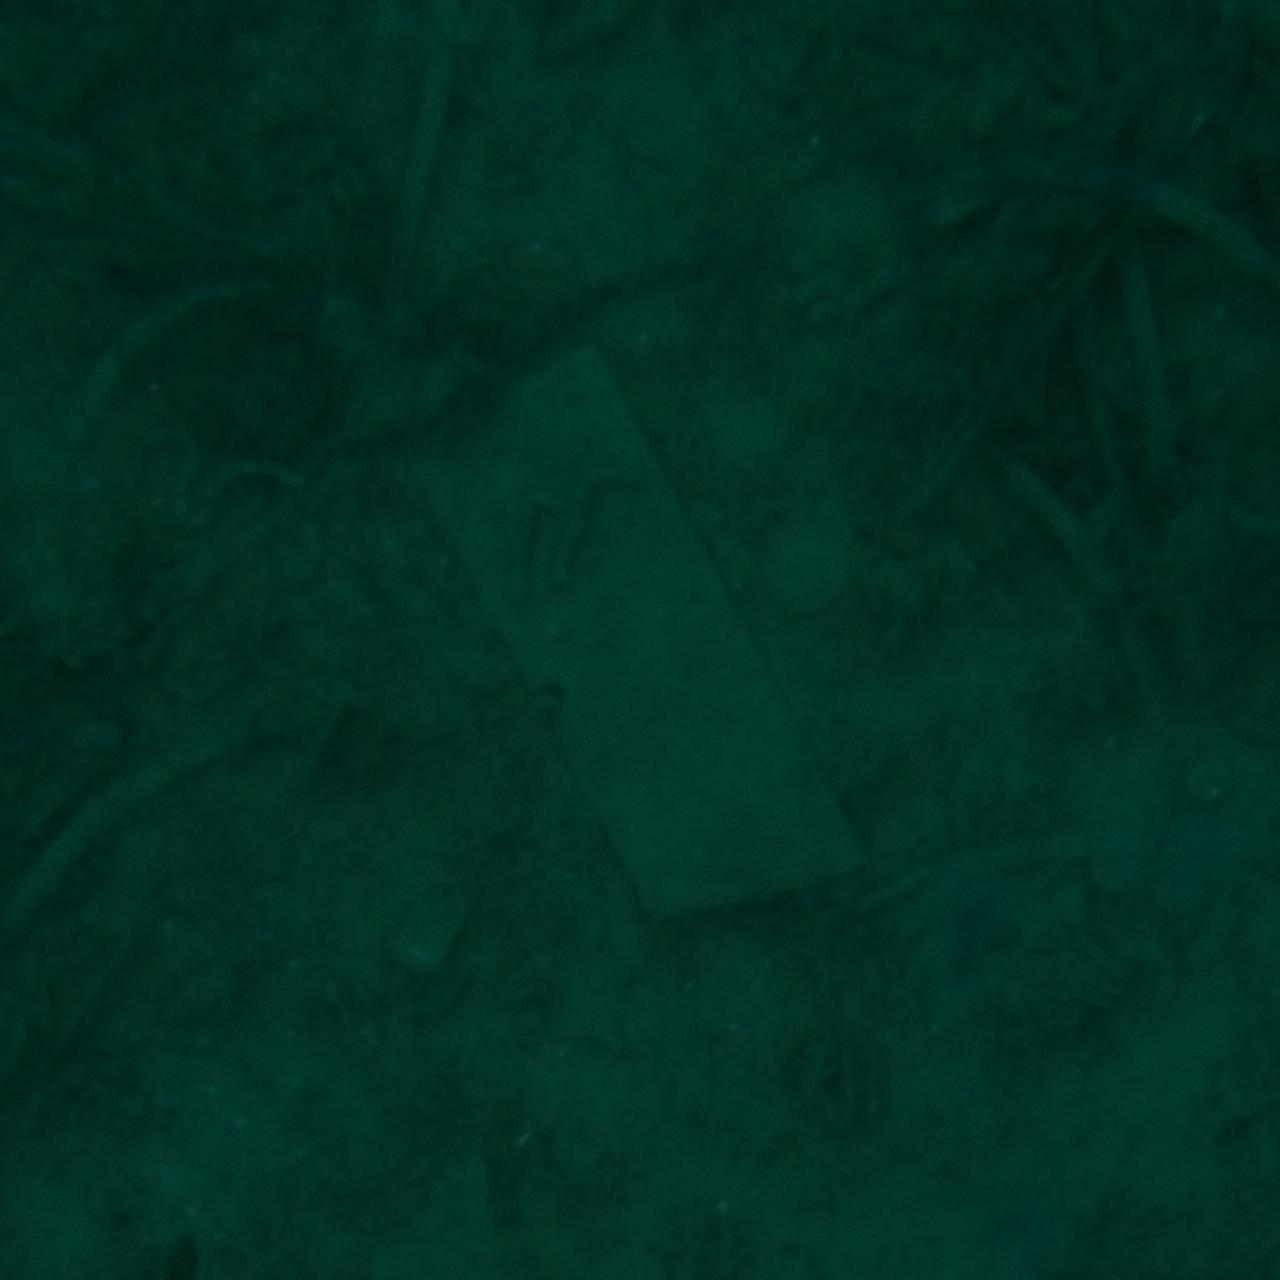Rifiuto: (395, 335, 885, 945)
